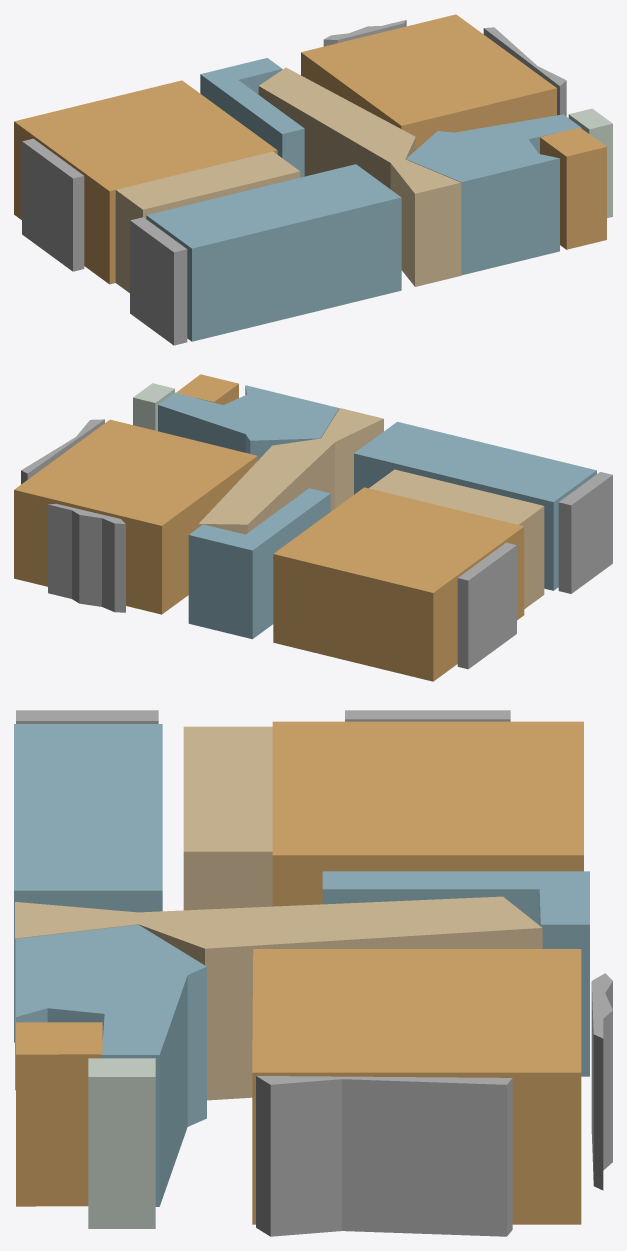
File: Capture d’écran 2025-06-05 224217.obj
3 renders of one model, top to bottom at view 1: azimuth 30°, elevation 25°; view 2: azimuth 150°, elevation 25°; view 3: azimuth 270°, elevation 25°, orthographic. The views are drawn at different scales.
Bounding box in the file's own units: 13.22 × 2.5 × 8.94.
